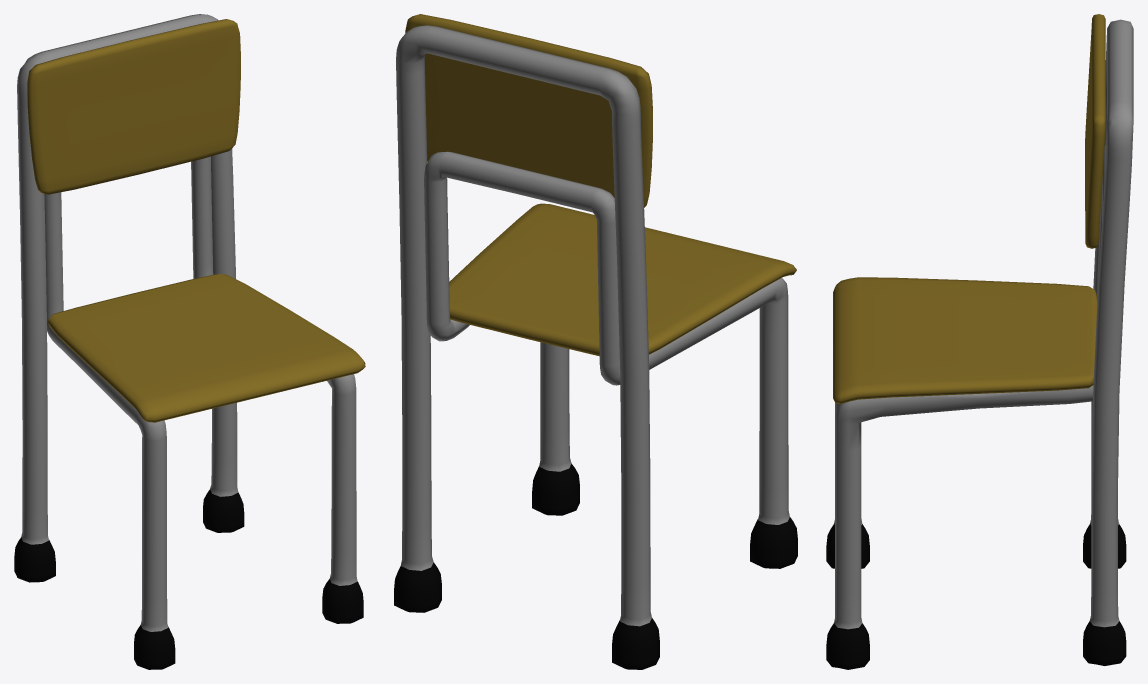
Rendered from SchoolSeat.fbx.
The picture shows the model from 3 angles, left to right: view 1: azimuth 30°, elevation 25°; view 2: azimuth 150°, elevation 25°; view 3: azimuth 270°, elevation 25°; orthographic projection. The views are drawn at different scales.
Parts seen in each view (by area): view 1: SchoolSeatSmooth; view 2: SchoolSeatSmooth; view 3: SchoolSeatSmooth.
Boxes of the visible parts, x1,y1,x2,y2 form: SchoolSeatSmooth: (14, 14, 365, 669); SchoolSeatSmooth: (394, 14, 797, 669); SchoolSeatSmooth: (826, 14, 1133, 669).
Size of the model in its own units: 10.56 by 23.15 by 11.64.
